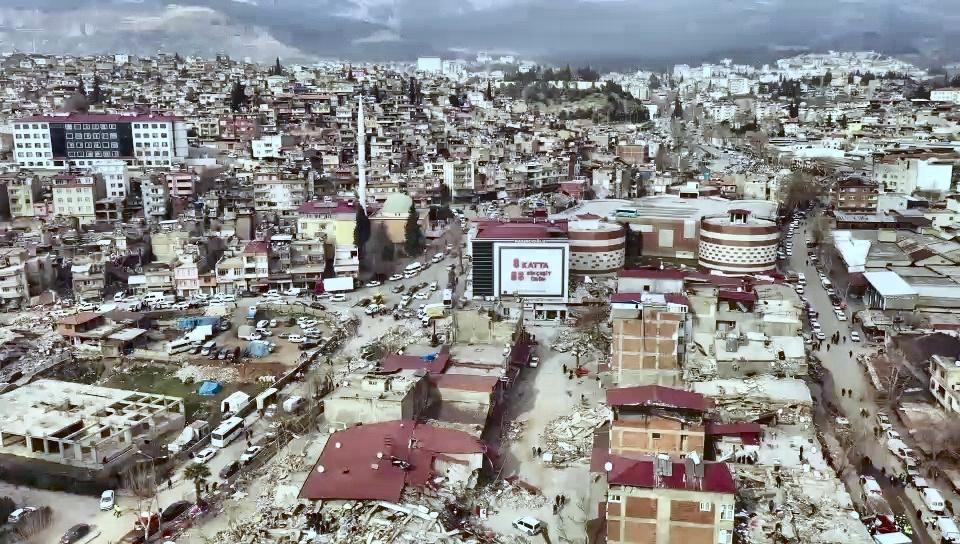kapali: (494, 388, 610, 477)
